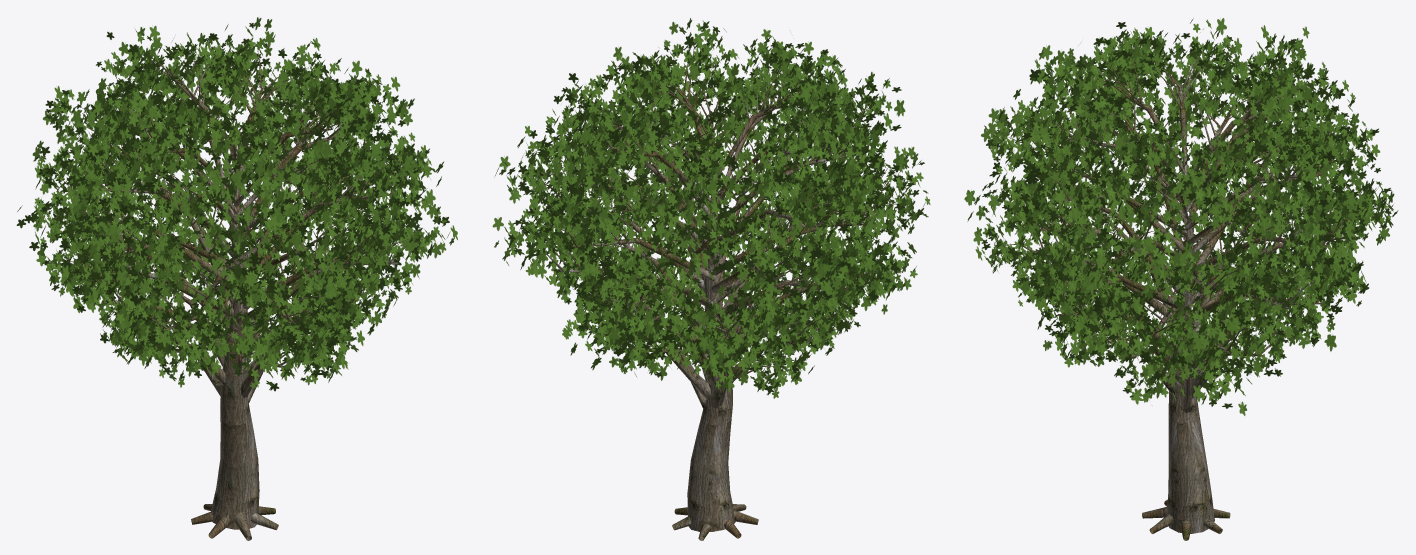
Rendered from red-maple.glb.
The picture shows the model from 3 angles, left to right: view 1: azimuth 30°, elevation 25°; view 2: azimuth 150°, elevation 25°; view 3: azimuth 270°, elevation 25°; orthographic projection.
Visible parts, largest first — view 1: red-maple; view 2: red-maple; view 3: red-maple.
Boxes of the visible parts, box(x1,y1,x2,y2) form: red-maple: box(16, 17, 457, 540); red-maple: box(492, 18, 930, 540); red-maple: box(964, 18, 1398, 540).
Bounding box in the file's own units: 12.61 × 15.17 × 12.91.
2 materials, 2 textured.
